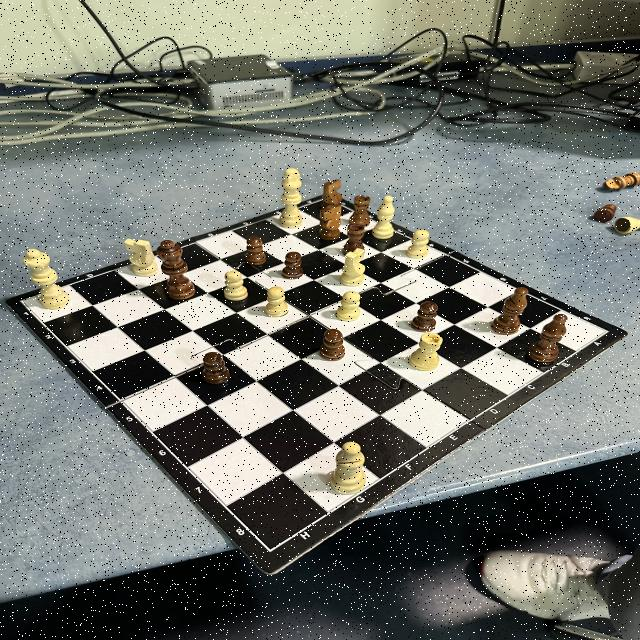Black-Bishop: (526, 314, 568, 362), (491, 288, 528, 336)
Black-Knight: (319, 203, 342, 241), (320, 178, 344, 204)
Black-Pawn: (202, 352, 230, 384), (319, 328, 345, 361), (411, 302, 438, 332), (244, 236, 266, 266), (282, 252, 304, 280)
Black-Queen: (156, 240, 196, 300)
Black-Rook: (349, 194, 371, 224), (344, 223, 366, 248)
White-Bishop: (330, 442, 366, 494), (372, 196, 395, 240)
White-King: (279, 167, 303, 229)
White-Knight: (124, 238, 158, 276), (340, 248, 366, 286)
White-Pawn: (336, 291, 361, 321), (406, 229, 430, 259), (224, 270, 248, 300), (265, 287, 289, 317)
White-Queen: (22, 249, 72, 309)
White-Rook: (409, 332, 443, 372)
